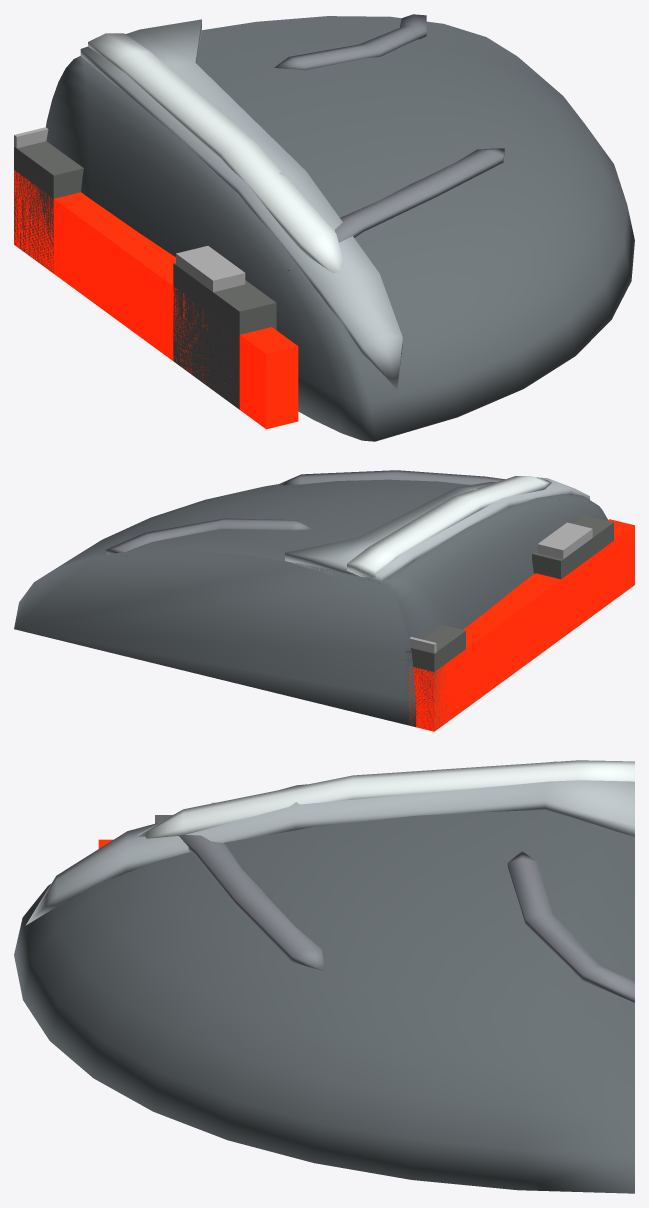
File: newsha-47.glb
3 renders of one model, top to bottom at view 1: azimuth 30°, elevation 25°; view 2: azimuth 150°, elevation 25°; view 3: azimuth 270°, elevation 25°, orthographic. The views are drawn at different scales.
Parts seen in each view (by area): view 1: newsha-47; view 2: newsha-47; view 3: newsha-47.
Part boxes in pixels (<box>): newsha-47: <box>14,14,634,441</box>; newsha-47: <box>14,470,634,731</box>; newsha-47: <box>14,760,634,1193</box>.
Bounding box in the file's own units: 1.92 × 0.6582 × 1.83.
